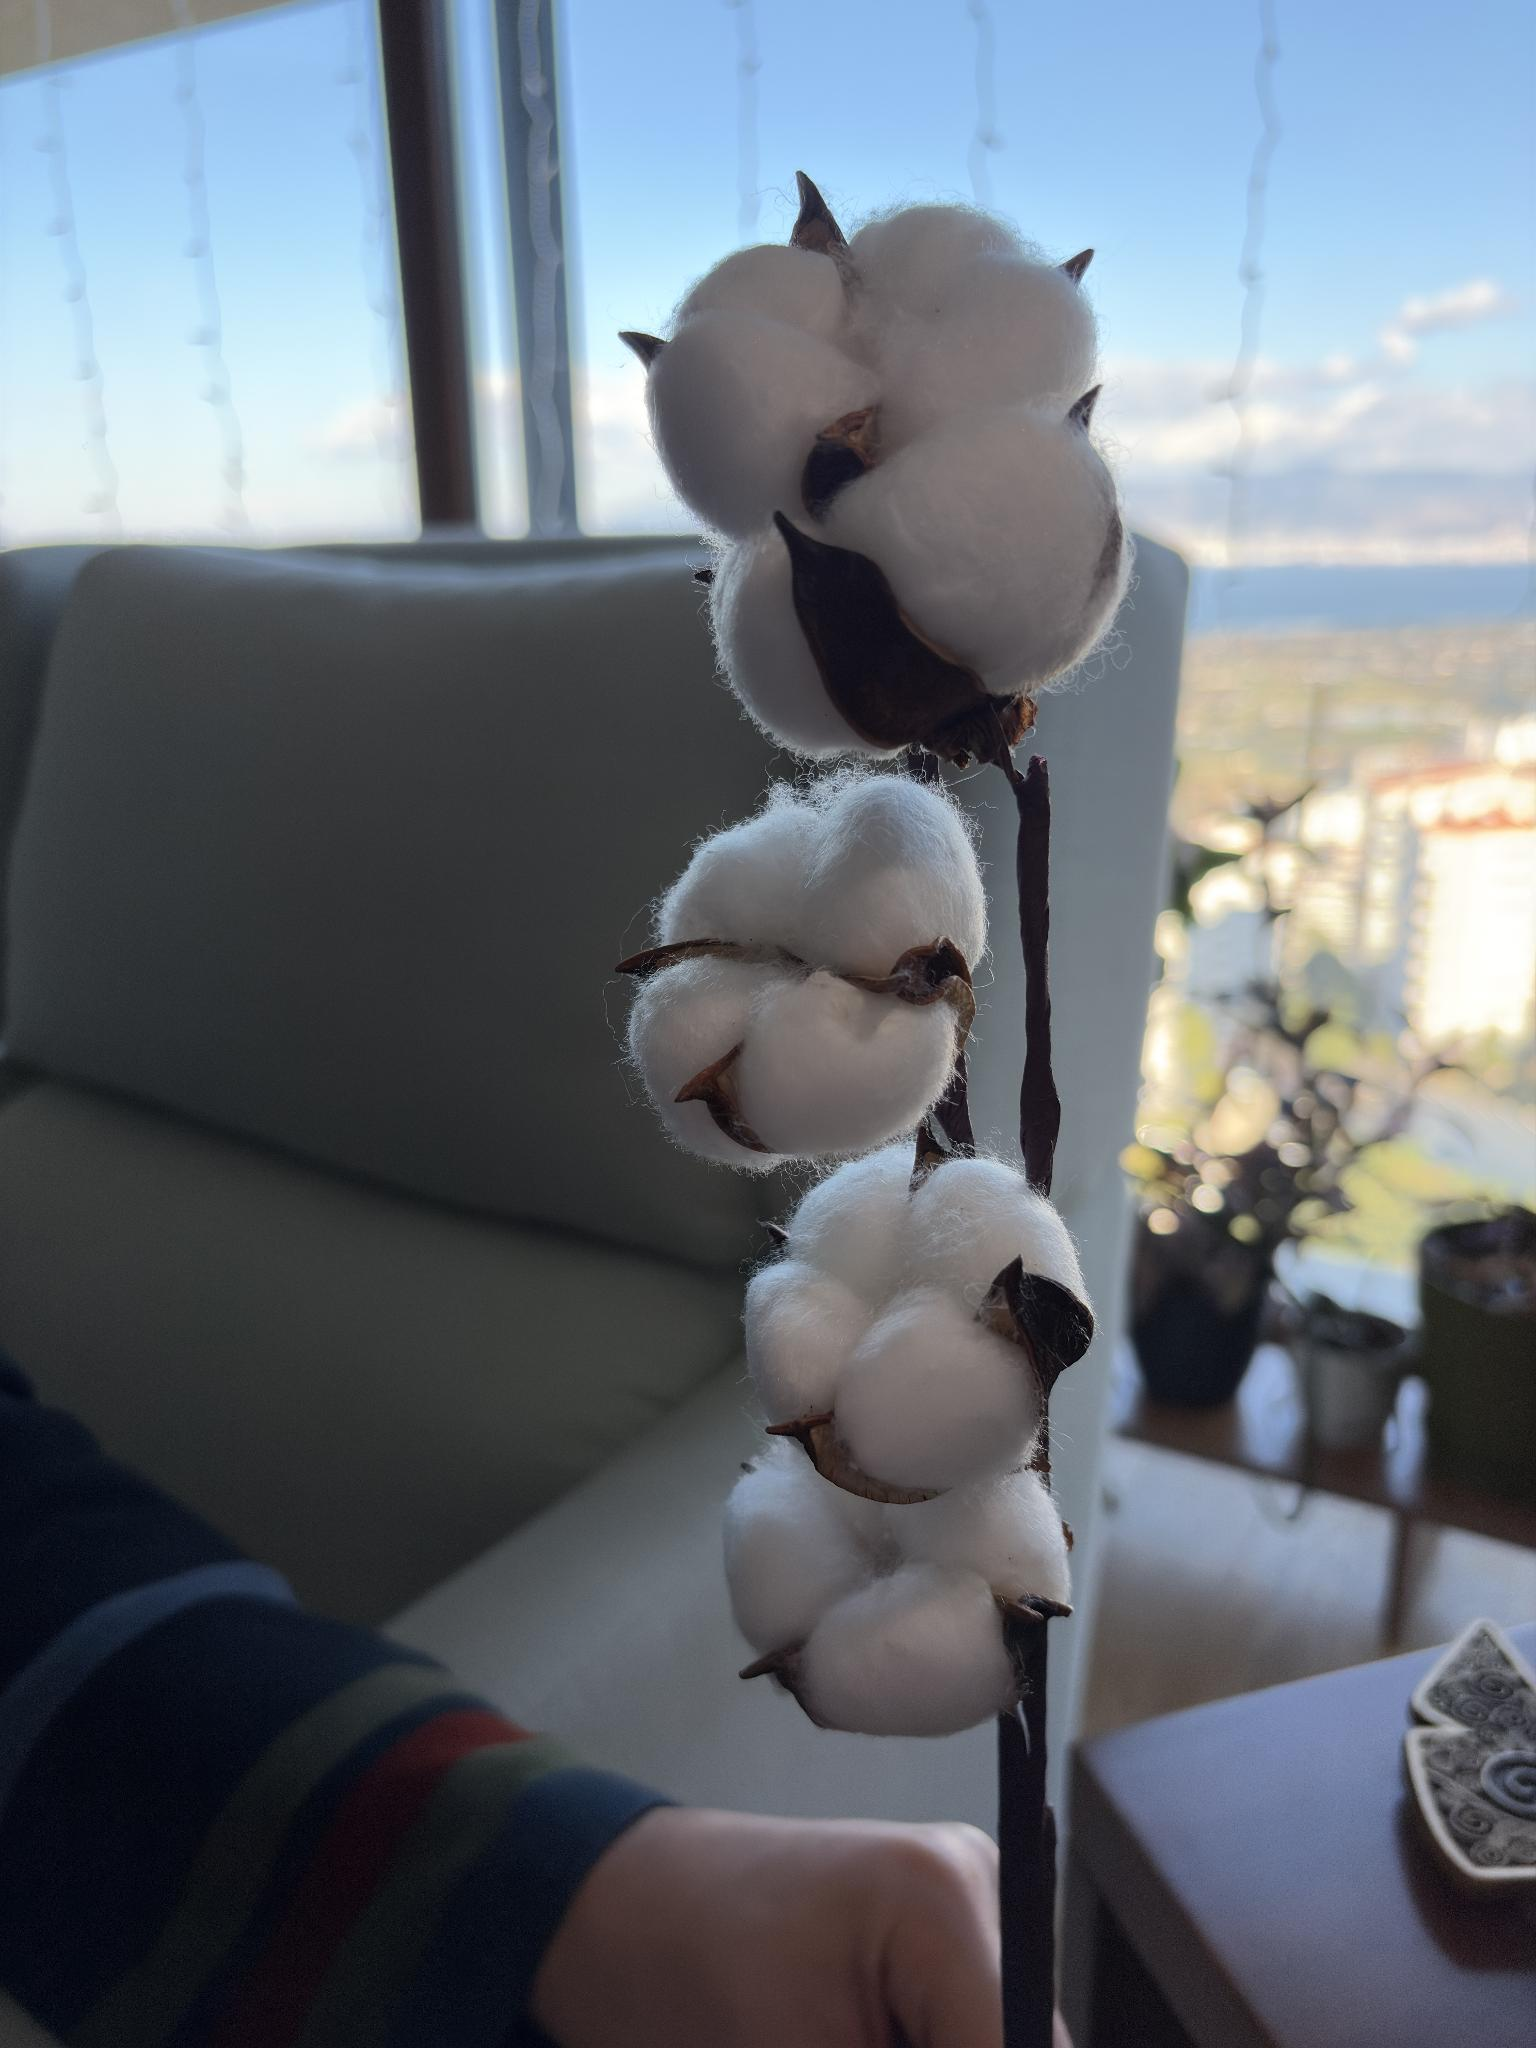cotton_boll: (821, 406, 1128, 695), (647, 310, 876, 539), (876, 255, 1097, 452), (731, 971, 958, 1158), (833, 1288, 1039, 1490), (791, 1564, 1016, 1737), (795, 777, 986, 972), (628, 958, 787, 1169), (710, 529, 855, 756), (724, 1448, 868, 1653), (655, 785, 821, 958), (905, 1158, 1087, 1308), (878, 1469, 1070, 1601), (745, 1258, 873, 1422), (781, 1145, 912, 1303), (849, 205, 1025, 311), (676, 245, 841, 339)
cotton_boll-cluster: (647, 198, 1141, 764), (611, 772, 1000, 1179), (729, 1135, 1097, 1509), (716, 1417, 1076, 1740)
